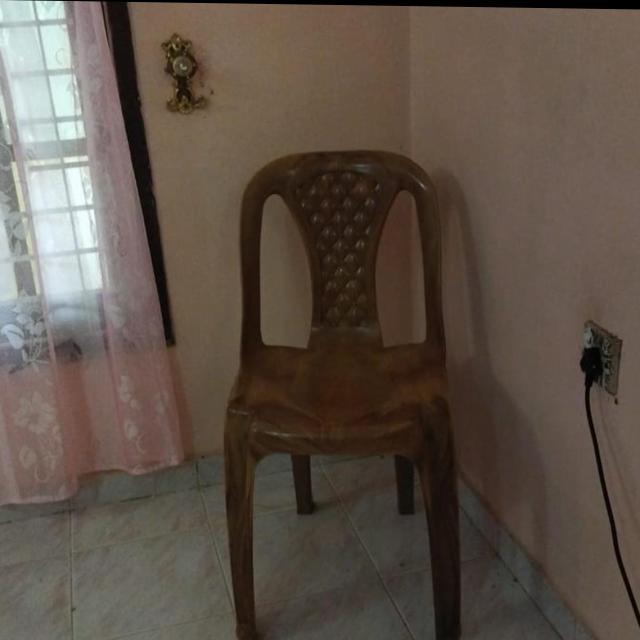Chair: (223, 147, 462, 640)
